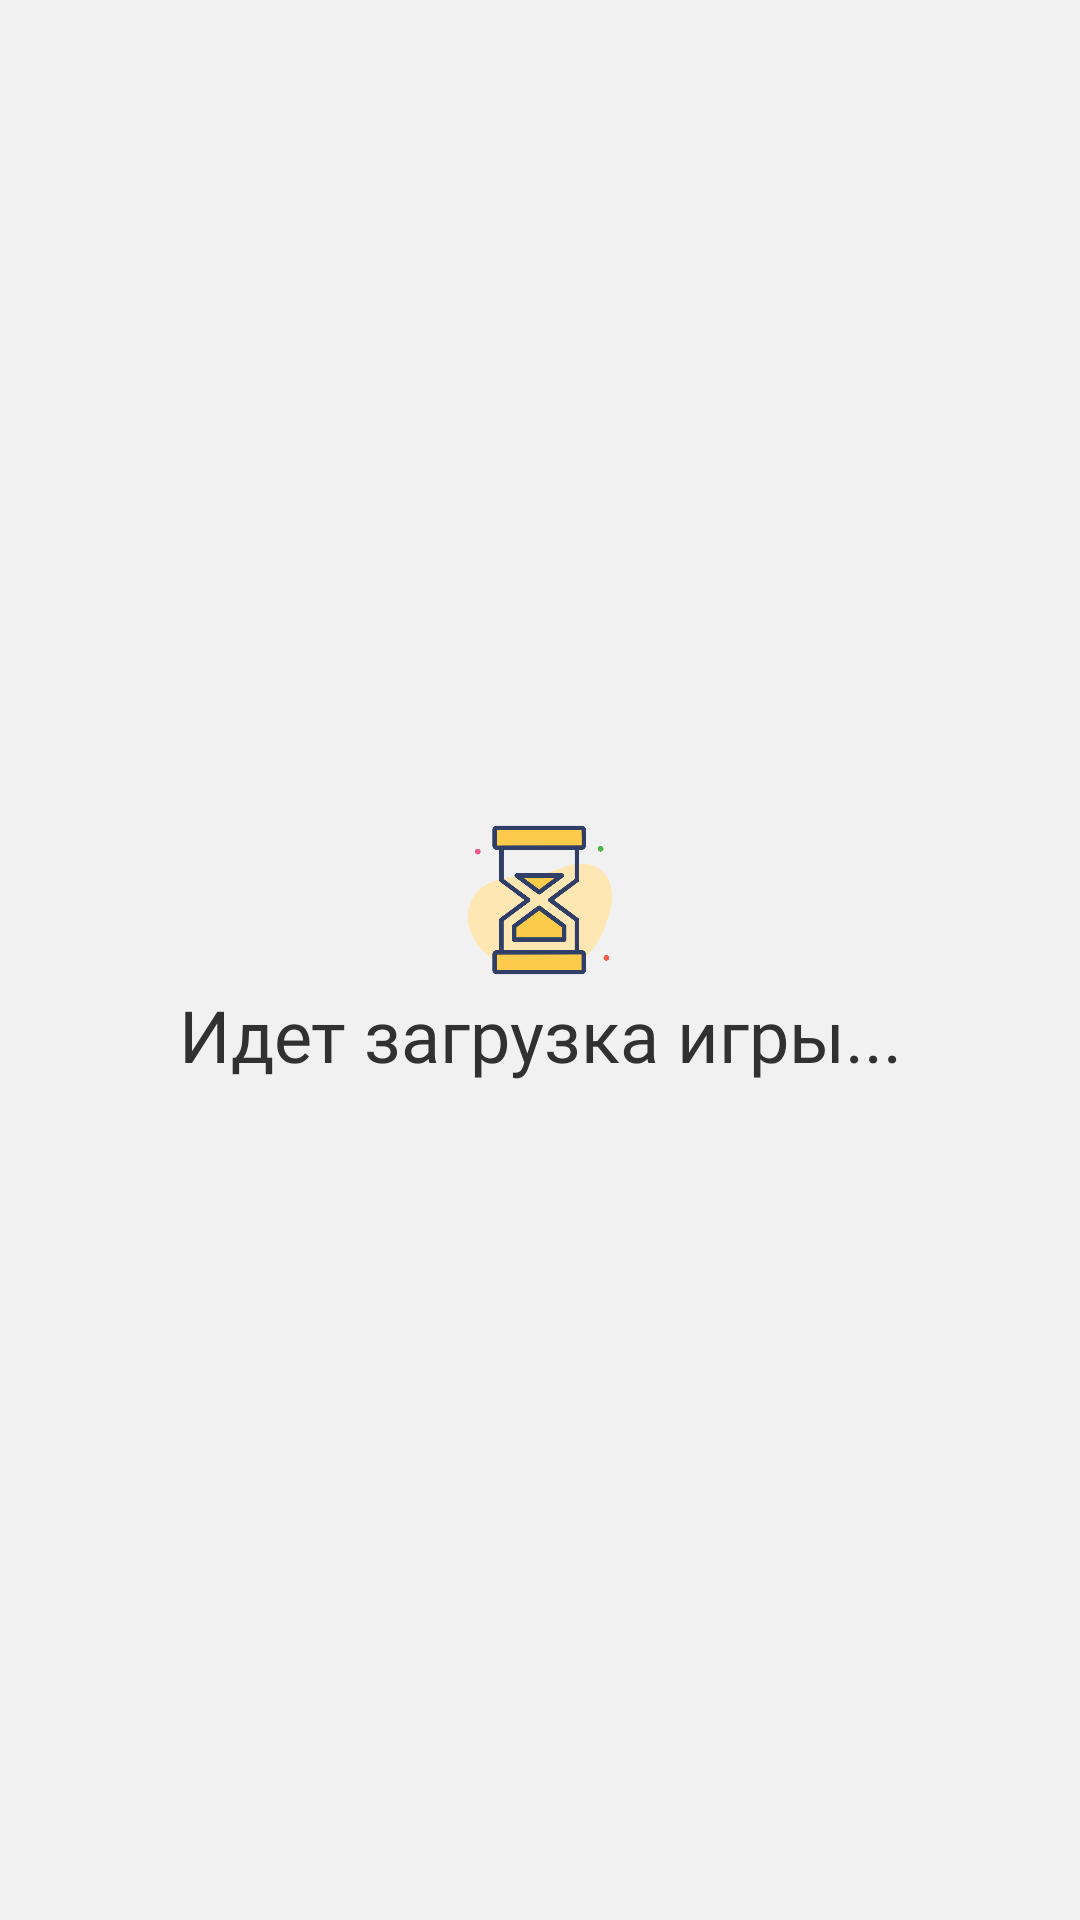

Icon bounding boxes for this 1080w x 1920h phone screenshot, format (x1, y1, x2, y2):
loading: (468, 826, 612, 974)
